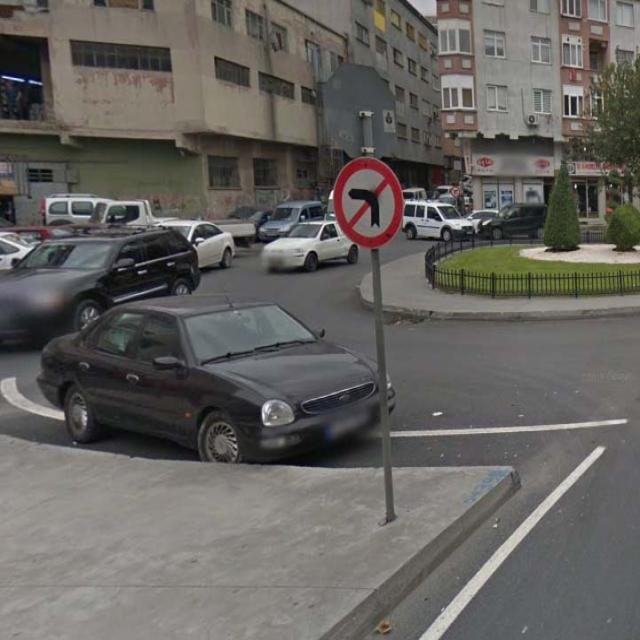soladonulmez: (334, 158, 404, 248)
